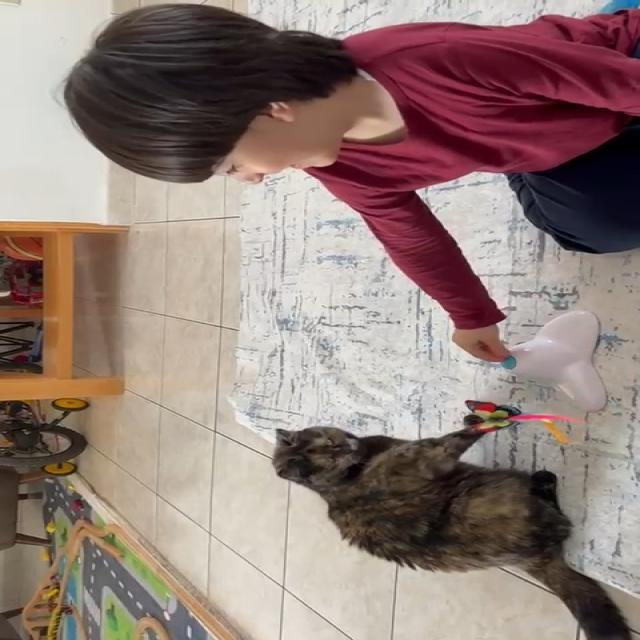authorized: (269, 422, 636, 639)
